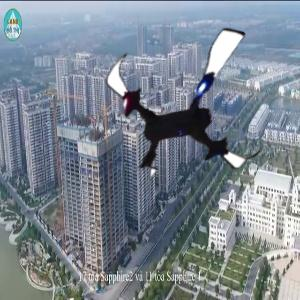drone: (99, 14, 280, 195)
